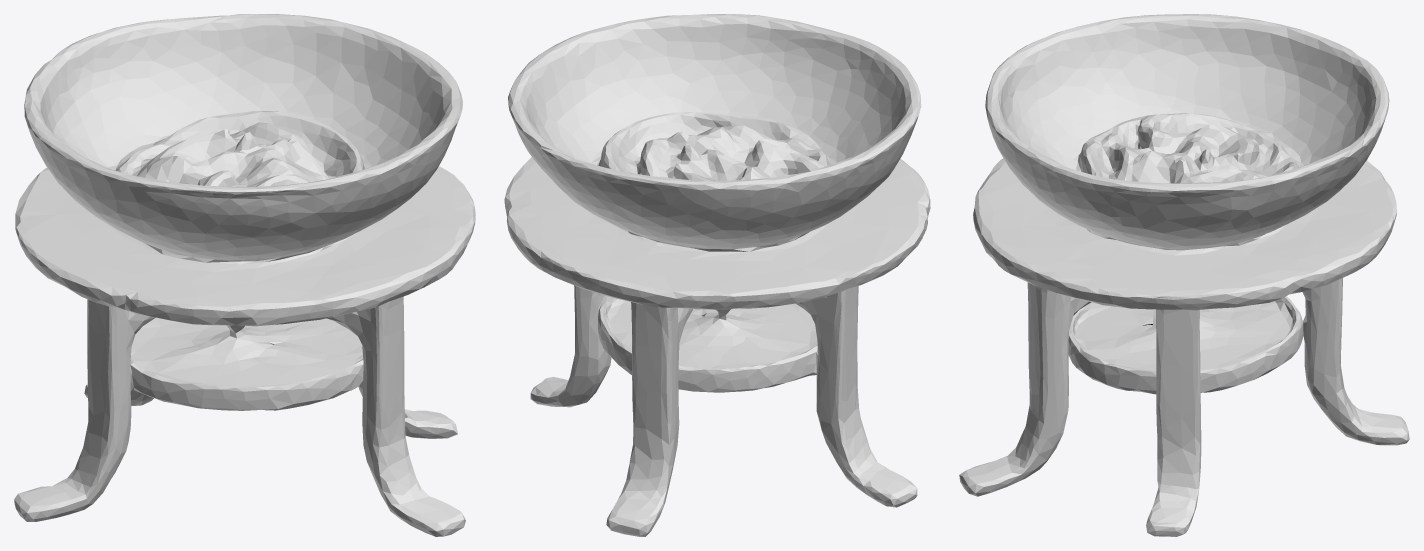
File: brazier_trip_r1.glb
3 views of the same model, side by side, from view 1: azimuth 30°, elevation 25°; view 2: azimuth 150°, elevation 25°; view 3: azimuth 270°, elevation 25° (orthographic). The views are drawn at different scales.
Parts seen in each view (by area): view 1: Low; view 2: Low; view 3: Low.
Part boxes in pixels (<box>): Low: <box>14,14,475,536</box>; Low: <box>504,14,930,536</box>; Low: <box>959,14,1409,536</box>.
Bounding box in the file's own units: 1.98 × 1.7 × 1.98.
Materials: 1 (1 with a texture image).
